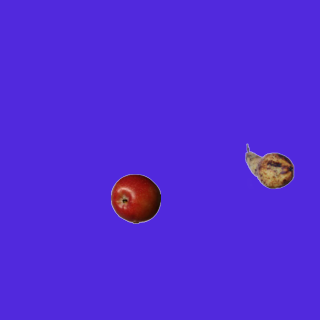Apple Braeburn: (110, 173, 160, 223)
Pear Abate: (244, 141, 294, 191)
